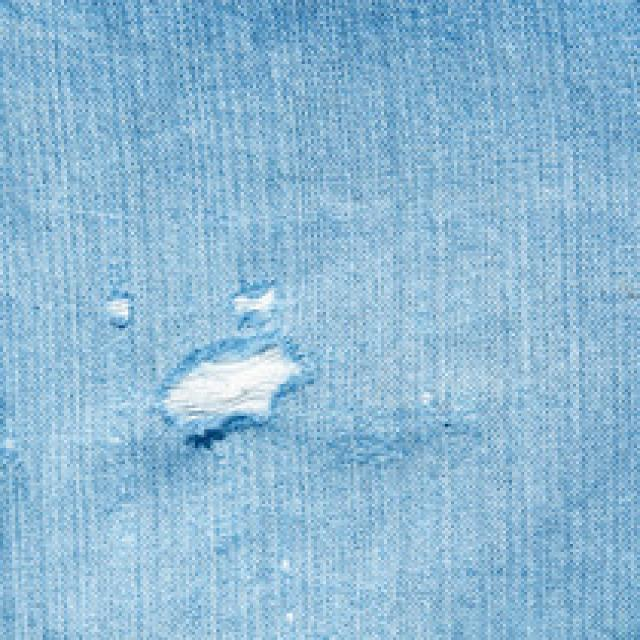Hole: (160, 335, 303, 448), (233, 286, 278, 326), (104, 290, 134, 328)
